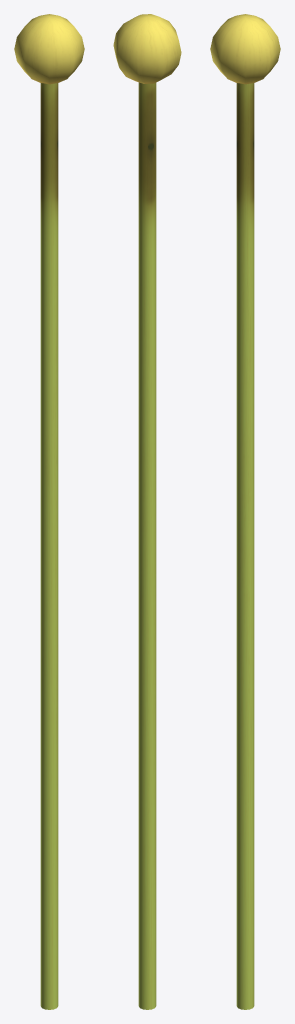
The model's file is Pole_K.fbx.
3 views of the same model, side by side, from view 1: azimuth 90°, elevation 25°; view 2: azimuth 210°, elevation 25°; view 3: azimuth 270°, elevation 25° (orthographic).
Visible parts, largest first — view 1: Pole_K1; view 2: Pole_K1; view 3: Pole_K1.
Boxes of the visible parts, x1,y1,x2,y2 form: Pole_K1: [14, 14, 84, 1009]; Pole_K1: [113, 14, 181, 1009]; Pole_K1: [210, 14, 280, 1009].
Bounding box in the file's own units: 22.38 × 347 × 22.38.
Materials: 1 (1 with a texture image).
